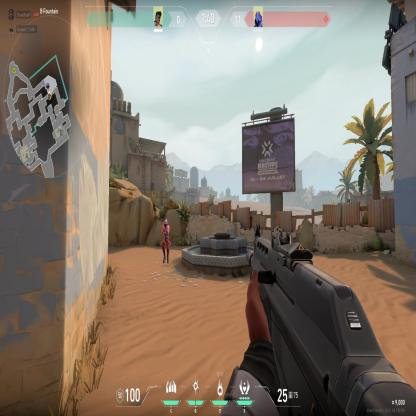enemy: (160, 217, 171, 264)
